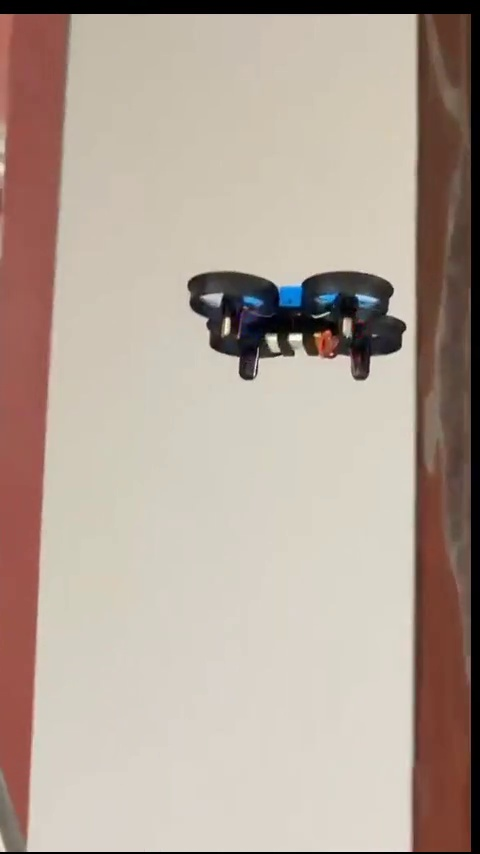drone: (181, 271, 405, 376)
